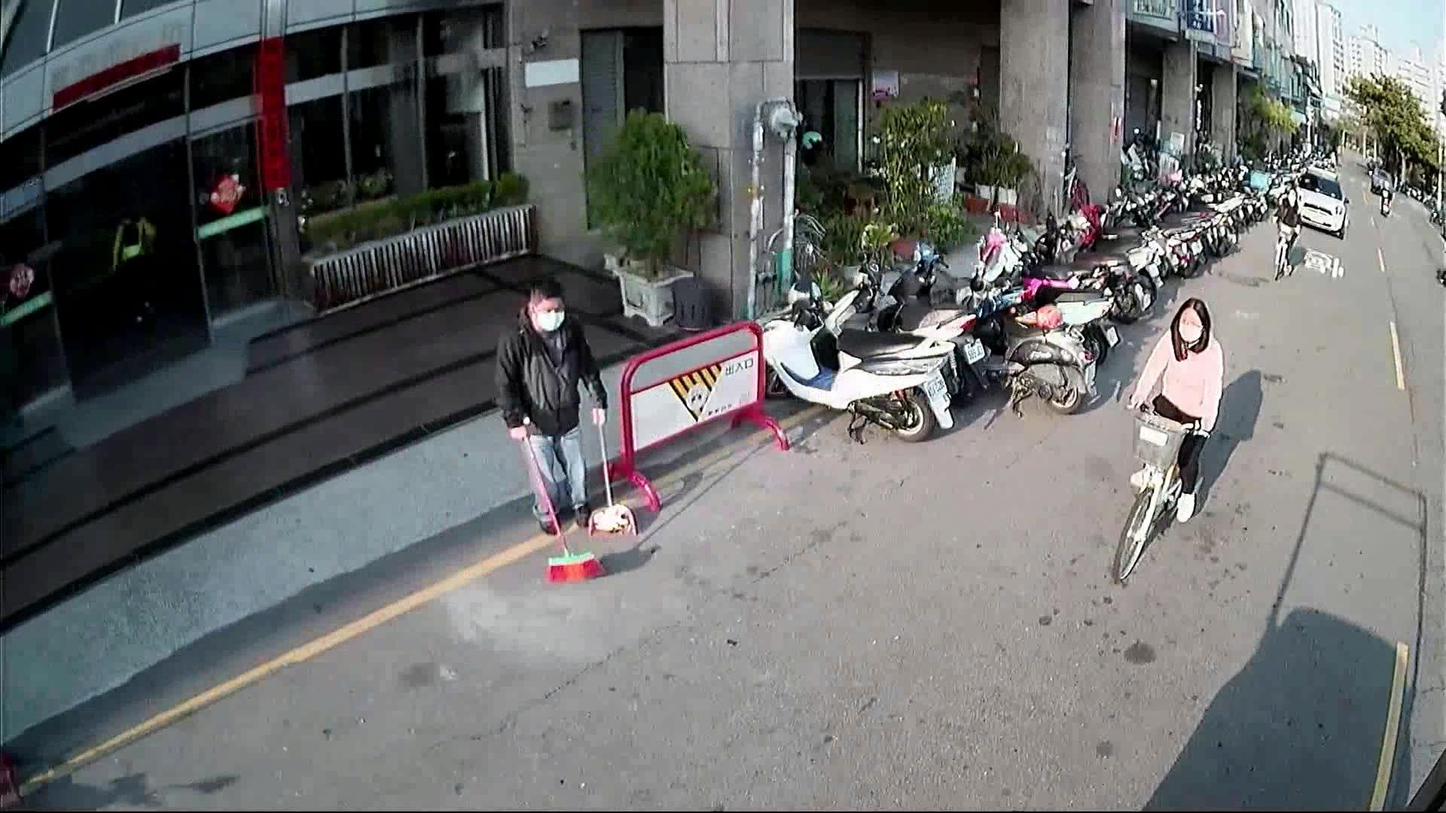person: (490, 269, 606, 532), (1127, 295, 1222, 525), (1269, 181, 1303, 269)
